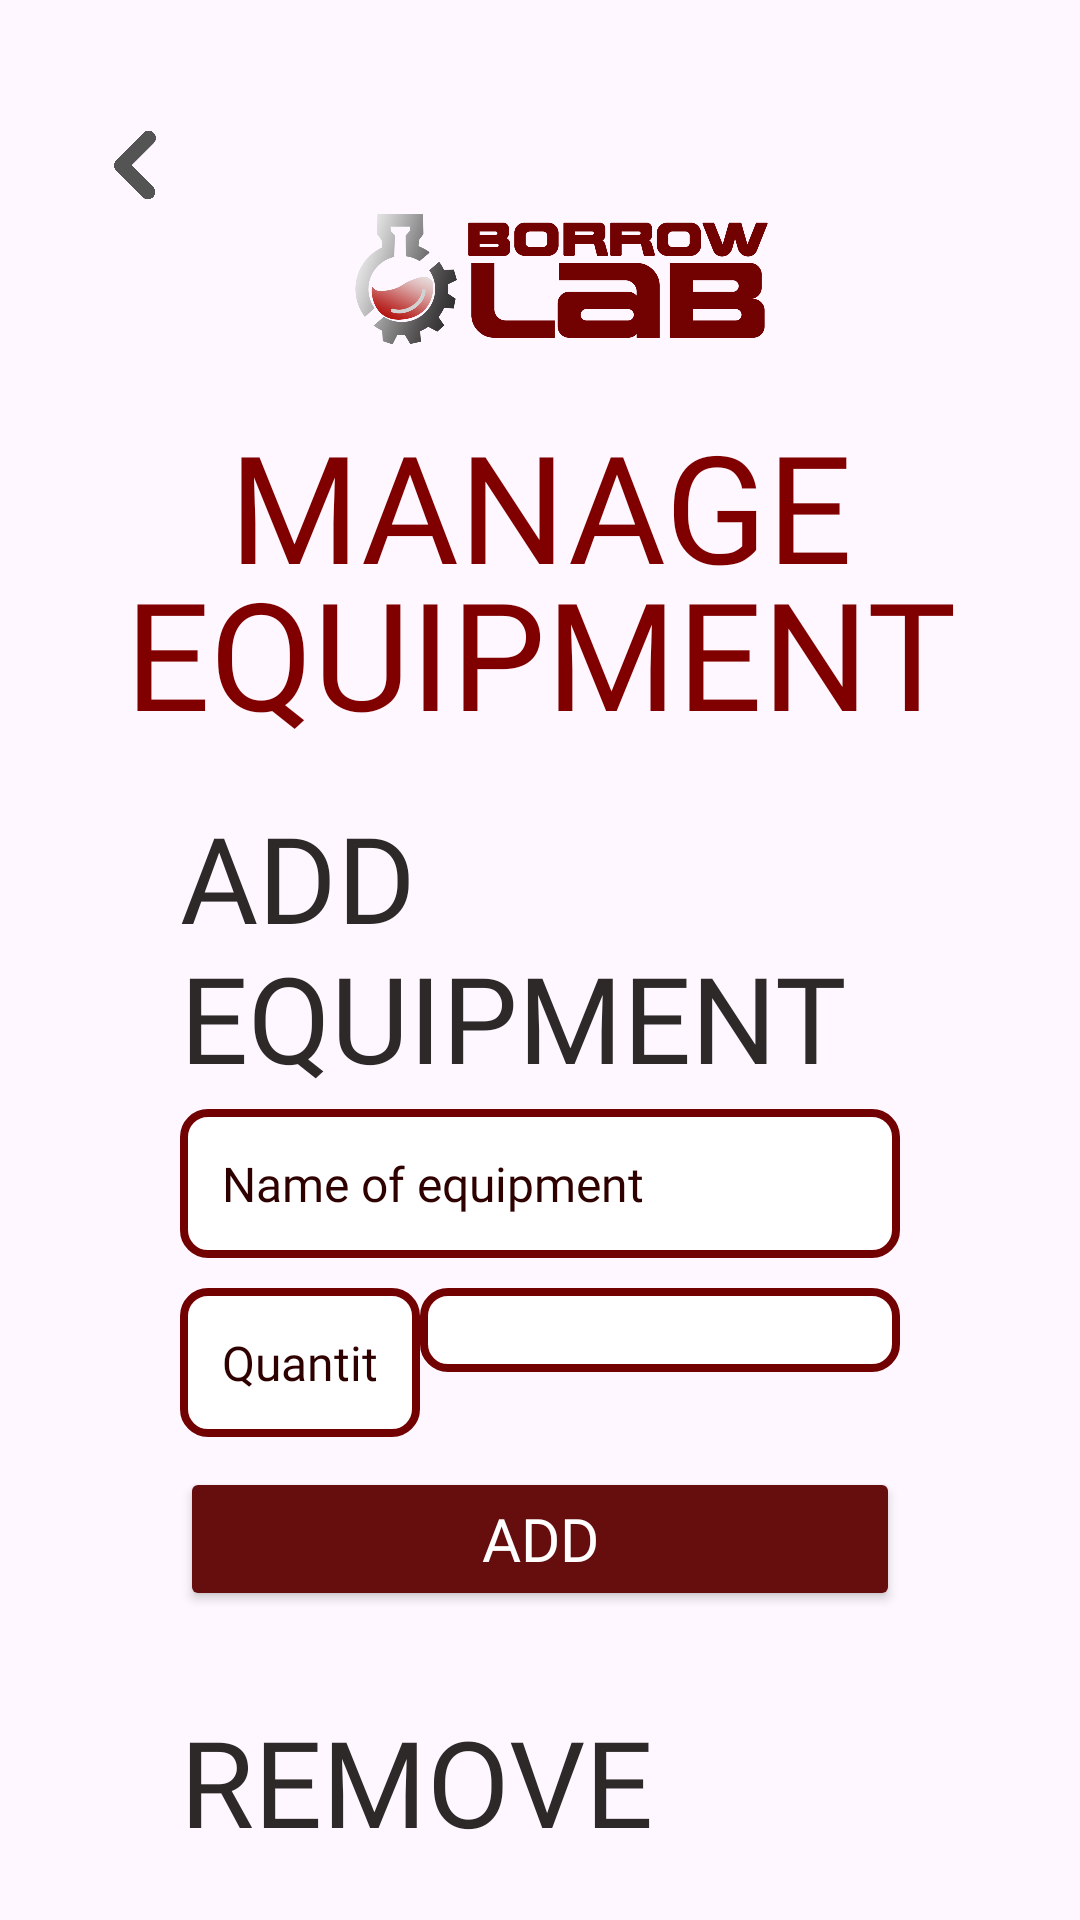

Locate icon controls on the screen. Image size 1080px x 1920px, boxes as rect(x1, y1, x2, y2).
Back Button: rect(114, 131, 156, 199)
